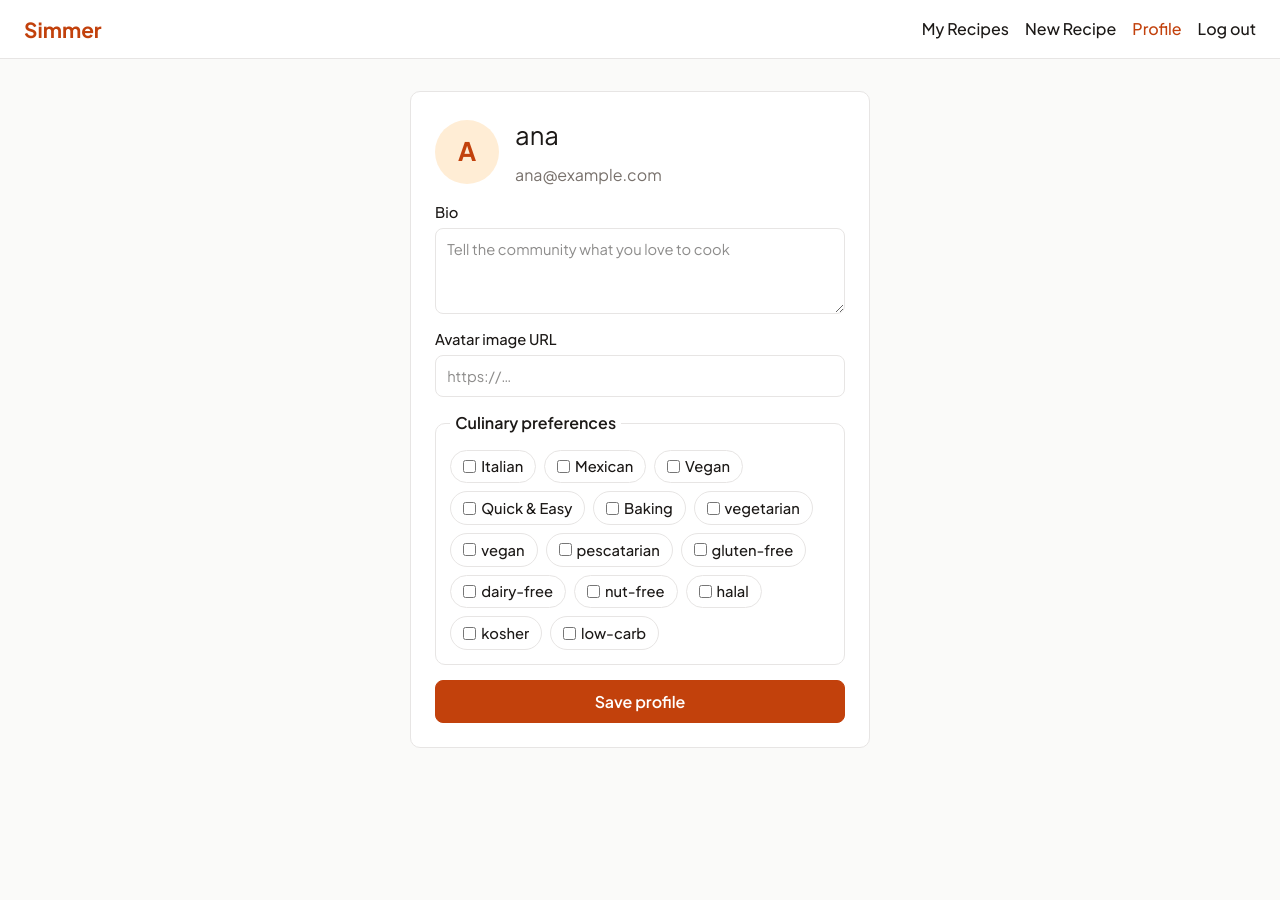
Test case: profiles and recipes › saves profile fields using the specified contract
Type "Home cook" into the text box labelled "Bio" at (640, 271), box [435,228,845,314]
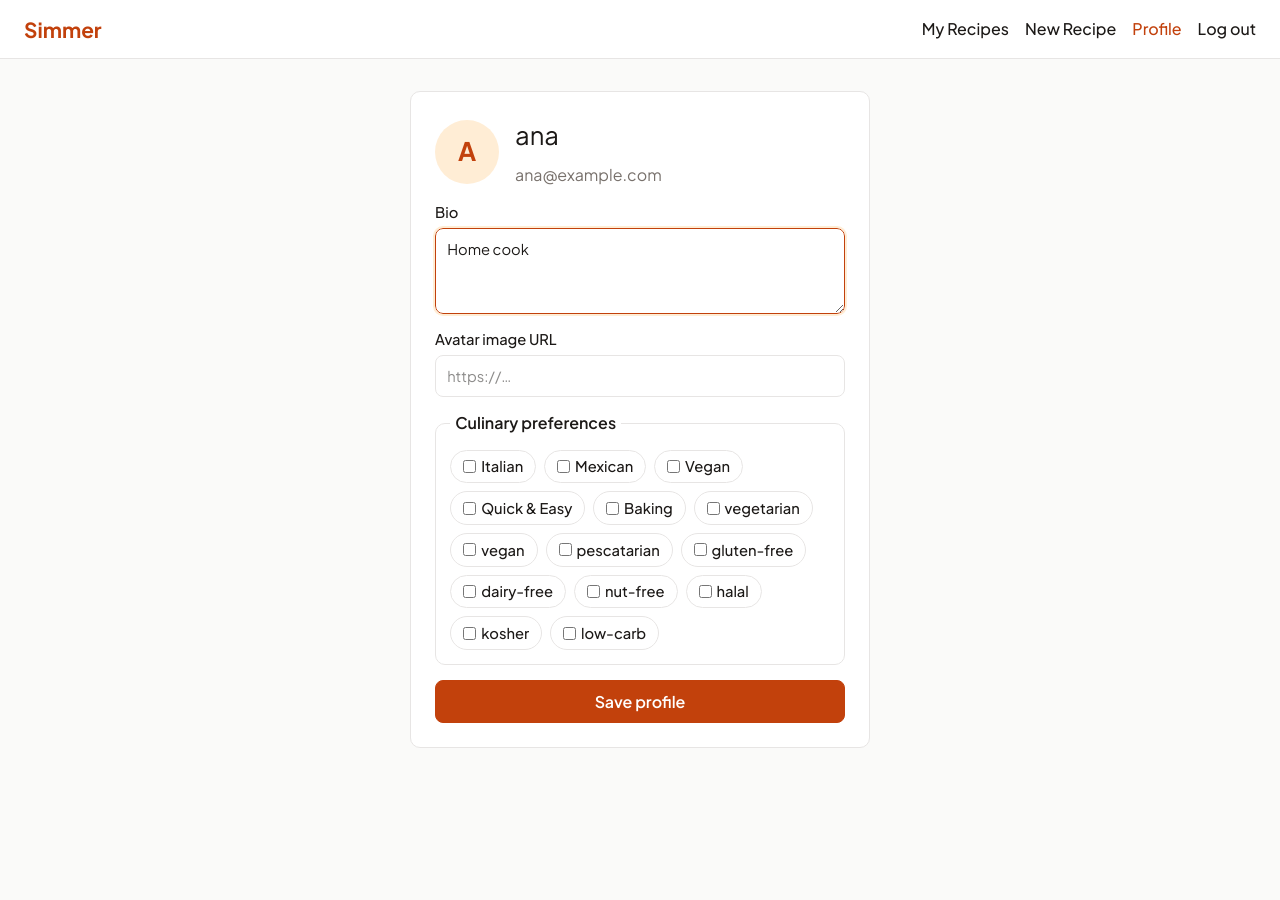
Click the checkbox labelled "Italian" at (470, 466), box [463,460,476,473]
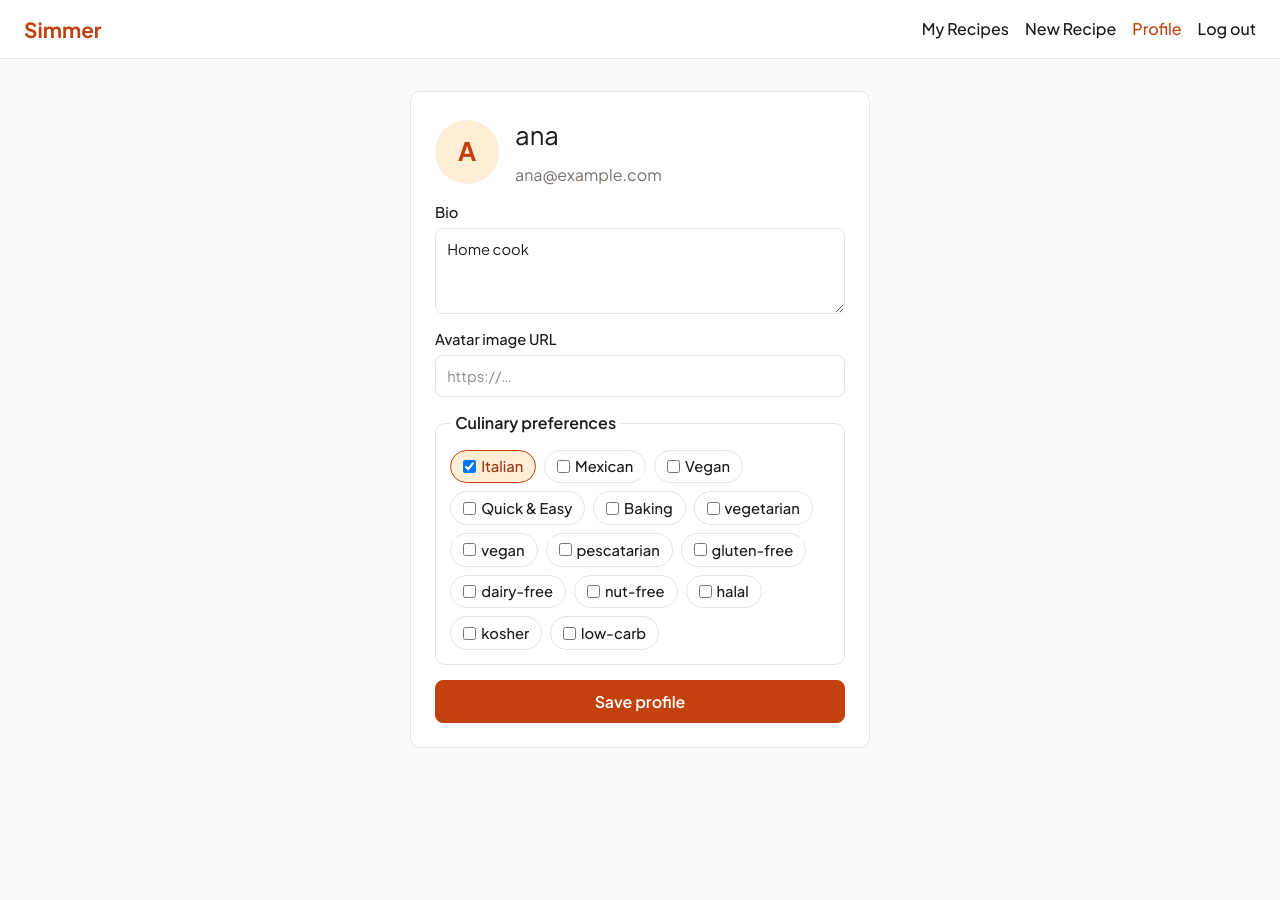
Click the button "Save profile" at (640, 702), box [435,680,845,723]
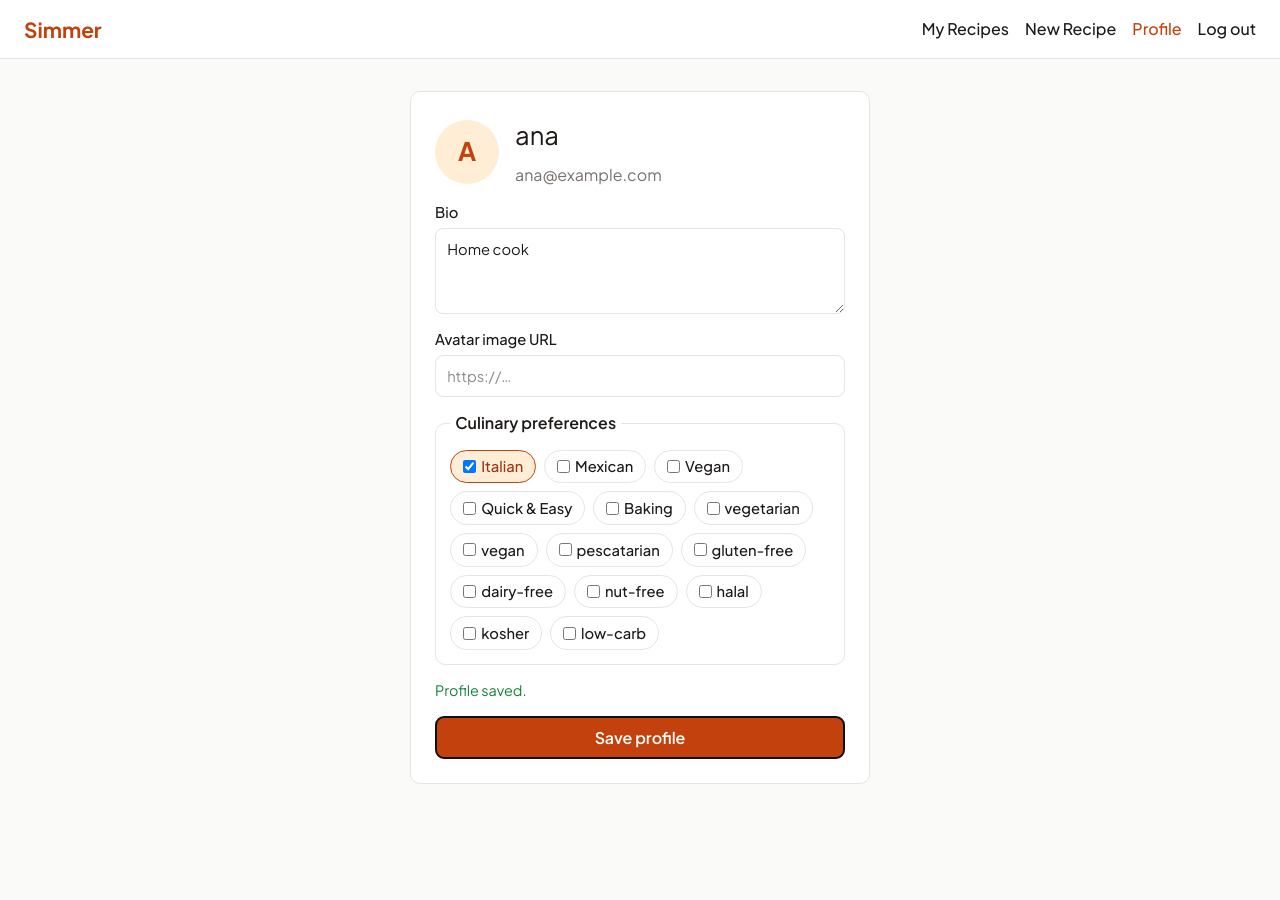
expect the text "Profile saved." is shown: met, box [435,681,526,699]
